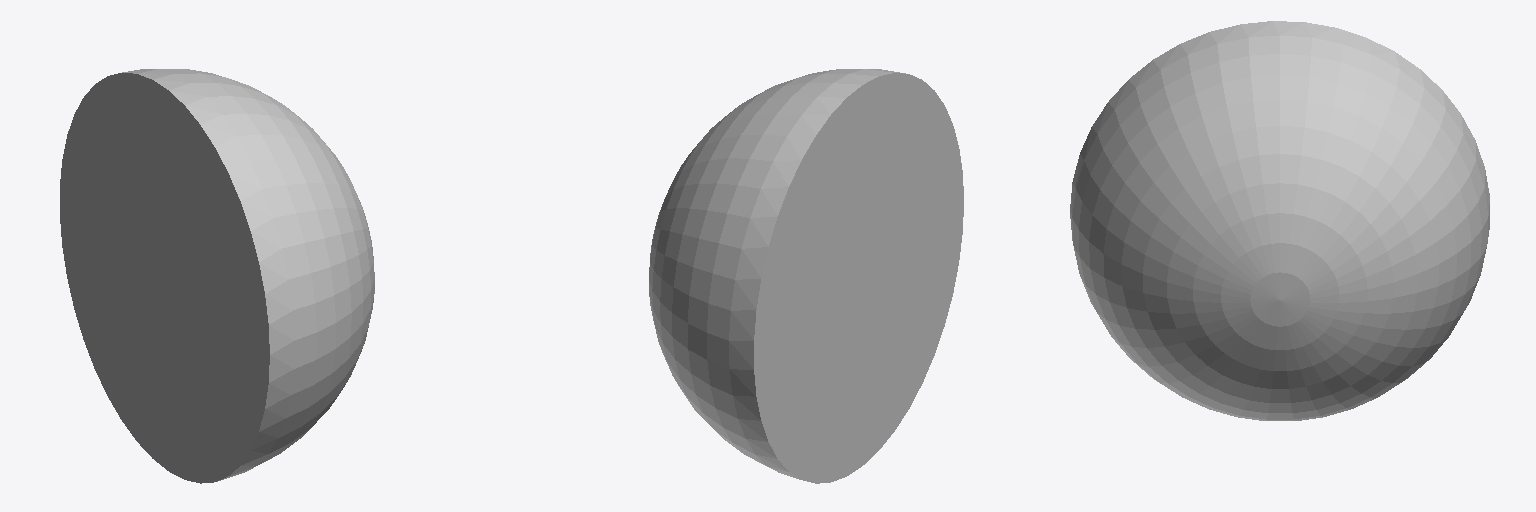
Rendered from halfsphere.obj.
3 views of the same model, side by side, from view 1: azimuth 30°, elevation 25°; view 2: azimuth 150°, elevation 25°; view 3: azimuth 270°, elevation 25° (orthographic).
Visible parts, largest first — view 1: Body1; view 2: Body1; view 3: Body1.
Boxes of the visible parts, box(x1,y1,x2,y2) form: Body1: box(60, 69, 374, 483); Body1: box(649, 69, 963, 483); Body1: box(1070, 21, 1489, 420).
Bounding box in the file's own units: 2.5 × 5 × 4.99.